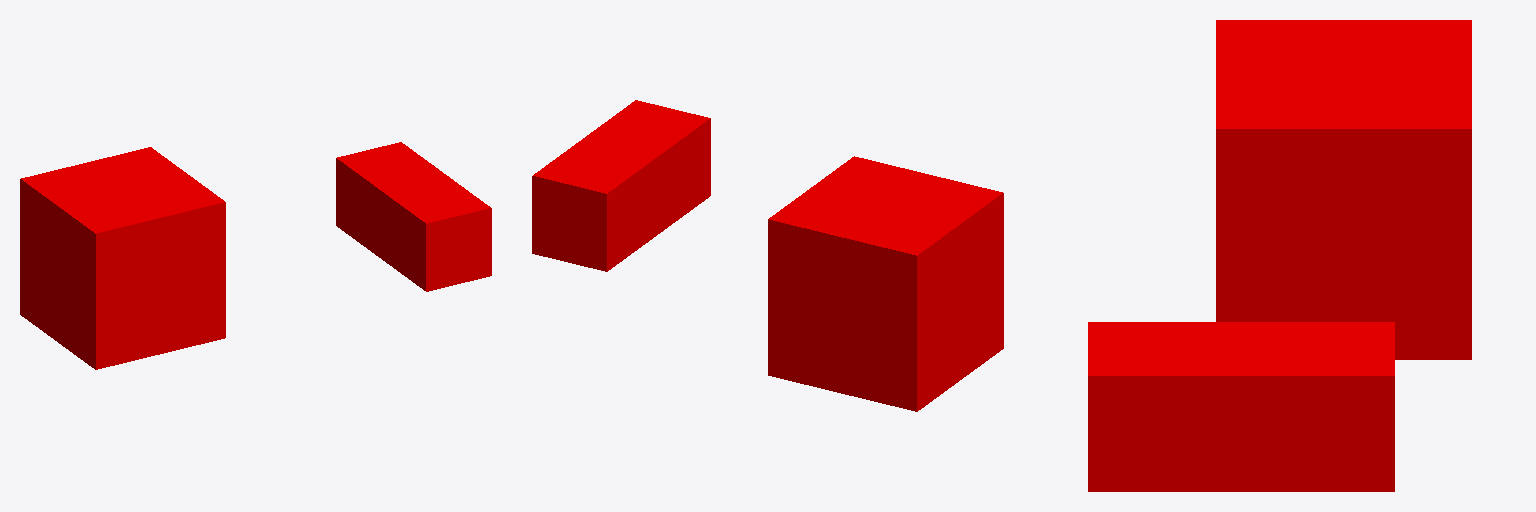
robot.urdf — TWO_BOXES_PER_CONFIG_description_CFG_BOTH:
<?xml version="1.0" encoding="utf-8"?>
<!-- This URDF was automatically created by SolidWorks to URDF Exporter! Originally created by Stephen Brawner (brawner@gmail.com) 
     Commit Version: n/a  Build Version: n/a
     For more information, please see http://wiki.ros.org/sw_urdf_exporter -->
<robot
  name="TWO_BOXES_PER_CONFIG_description_CFG_BOTH">
  <link
    name="base_link">
    <inertial>
      <origin
        xyz="0.0230769230769231 1.62890951395058E-19 0.00461538461538461"
        rpy="0 0 0" />
      <mass
        value="0.1625" />
      <inertia
        ixx="6.52864583333333E-05"
        ixy="8.4077907859489E-39"
        ixz="-1.86839795243309E-39"
        iyy="6.52864583333333E-05"
        iyz="3.52930394689292E-22"
        izz="5.59895833333333E-05" />
    </inertial>
    <visual>
      <origin
        xyz="0 0 0"
        rpy="0 0 0" />
      <geometry>
        <mesh
          filename="package://TWO_BOXES_PER_CONFIG_description_CFG_BOTH/meshes/base_link.STL" />
      </geometry>
      <material
        name="">
        <color
          rgba="1 0 0 1" />
      </material>
    </visual>
    <collision>
      <origin
        xyz="0 0 0"
        rpy="0 0 0" />
      <geometry>
        <mesh
          filename="package://TWO_BOXES_PER_CONFIG_description_CFG_BOTH/meshes/base_link.STL" />
      </geometry>
    </collision>
  </link>
</robot>

--- Facts derived from the render (not from the file) ---
The picture shows the robot from 3 angles, left to right: view 1: azimuth 30°, elevation 25°; view 2: azimuth 150°, elevation 25°; view 3: azimuth 270°, elevation 25°; orthographic projection.
Robot: TWO_BOXES_PER_CONFIG_description_CFG_BOTH — 1 links, 0 joints (none); root link base_link; default pose: every joint at zero.
Links seen in each view (by area): view 1: base_link; view 2: base_link; view 3: base_link.
Boxes of the visible links, x1,y1,x2,y2 form: base_link: (20,142,491,369); base_link: (532,100,1003,411); base_link: (1088,20,1471,491).
Bounding box of the posed robot: 0.1375 × 0.075 × 0.05 m (x, y, z).
1 mesh visuals loaded from 1 distinct referenced files (1 binary STL).
